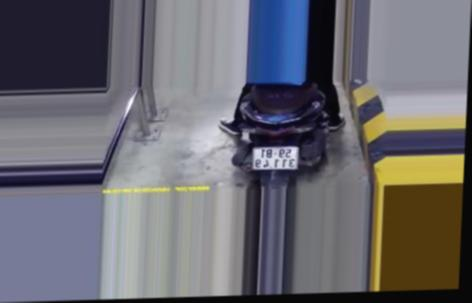License_Plate: (250, 139, 302, 174)
